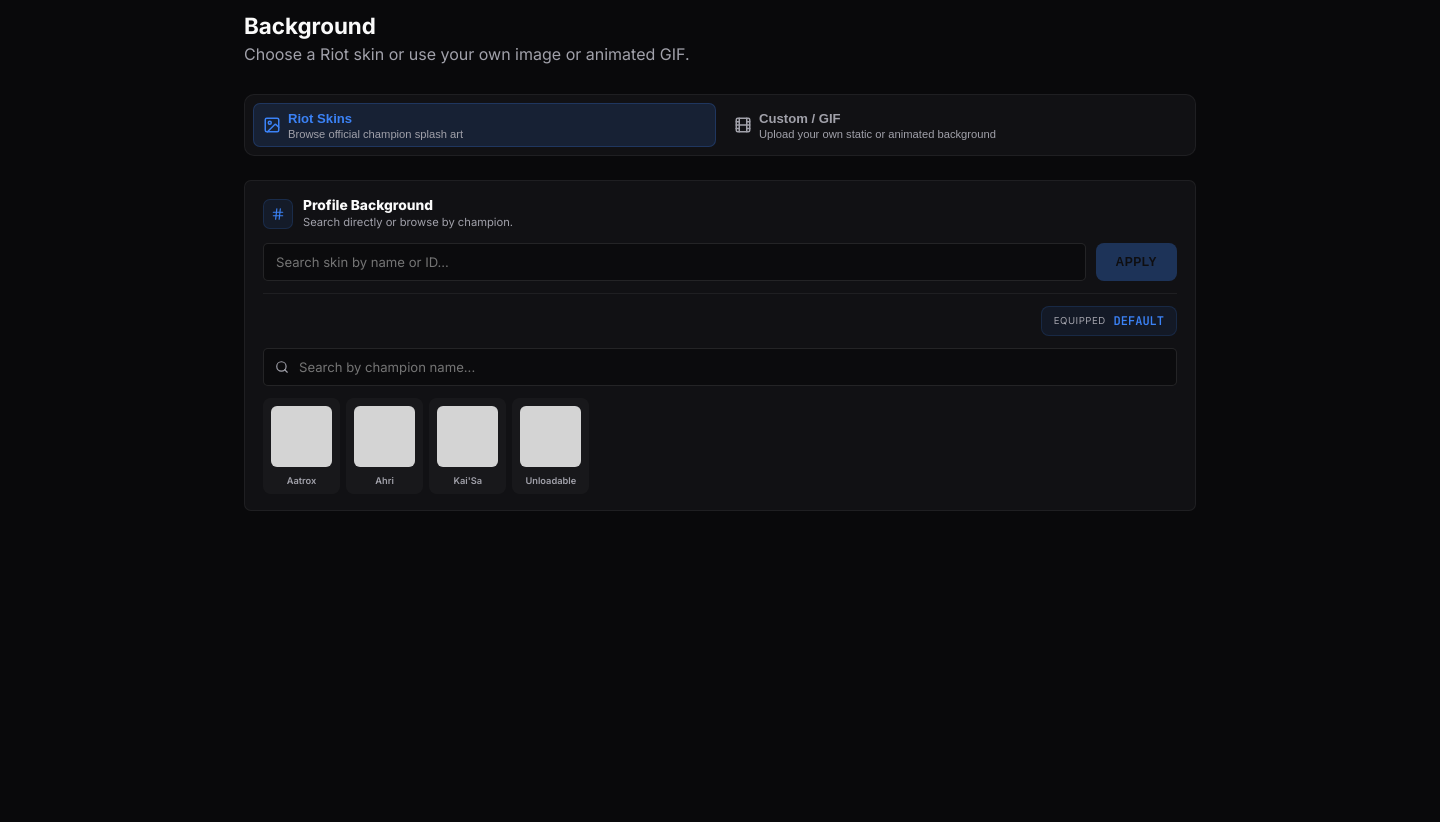
Test case: BackgroundTab › should show suggestions again on focus if matches exist
Expected: the text "Aatrox" is shown, [287, 475, 316, 486]
In the field with placeholder "Search skin by name or ID...": (674, 262) [263, 243, 1086, 281], type "Justicar"
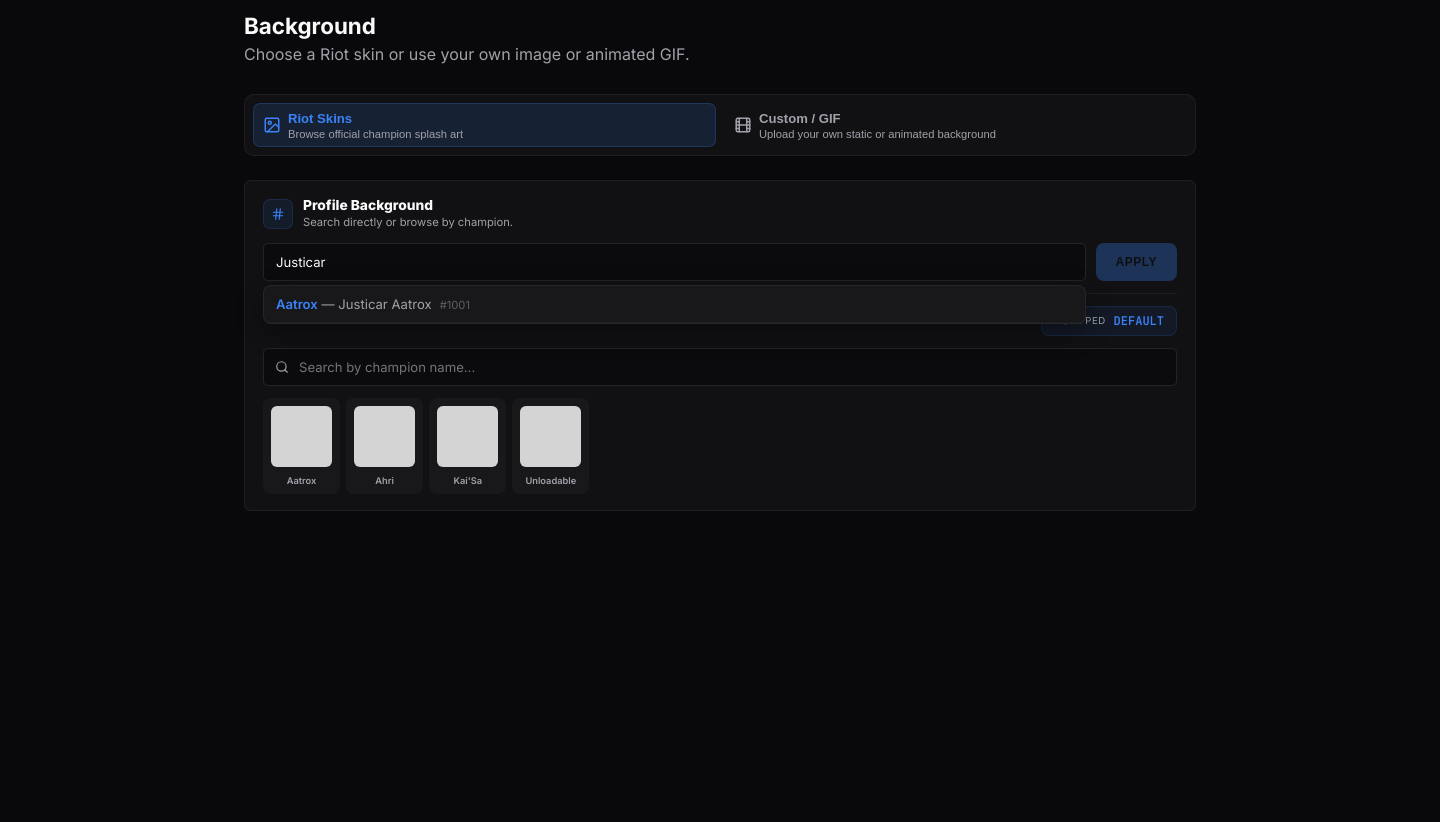
Now the text "— Justicar Aatrox" is shown, box [318, 296, 432, 312]
Note: Dismiss by clicking outside
Press the mouse on the element that starts with "Background": (720, 417) [0, 12, 1439, 821]
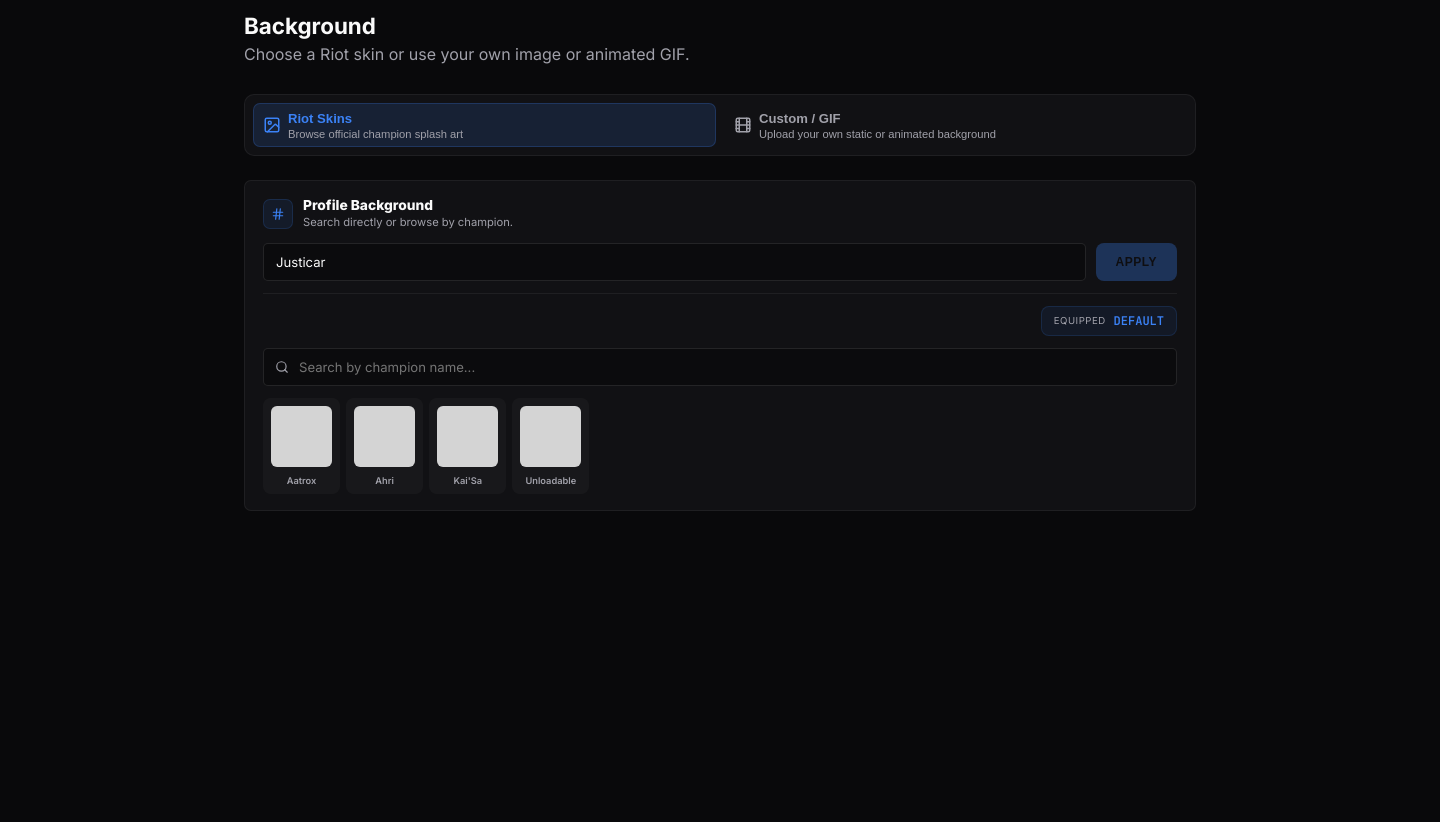
Now the button "Justicar Aatrox" is gone
Note: Focus input again
Focus the field with placeholder "Search skin by name or ID...": (674, 262) [263, 243, 1086, 281]
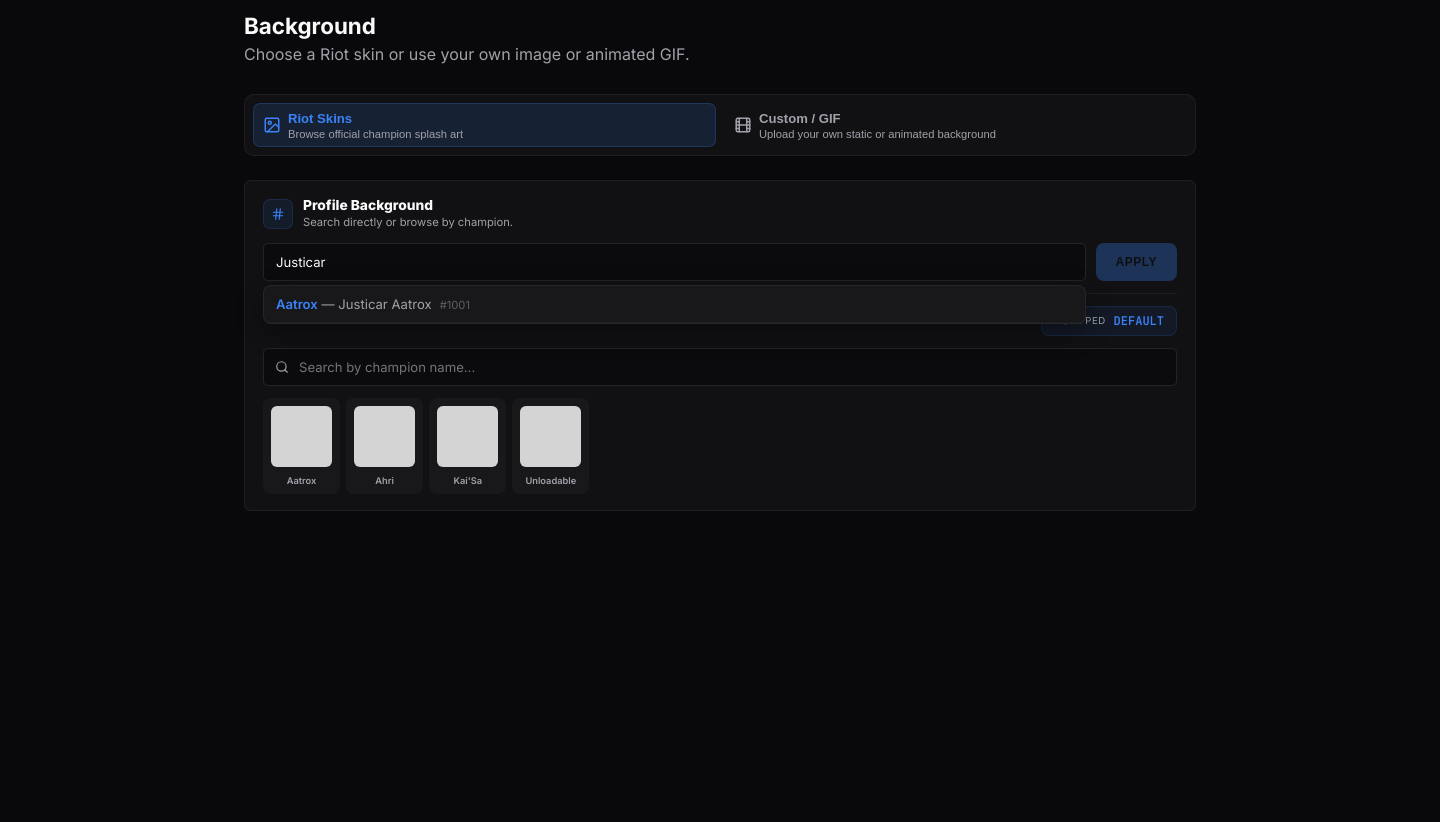
Now the text "— Justicar Aatrox" is shown, box [318, 296, 432, 312]
